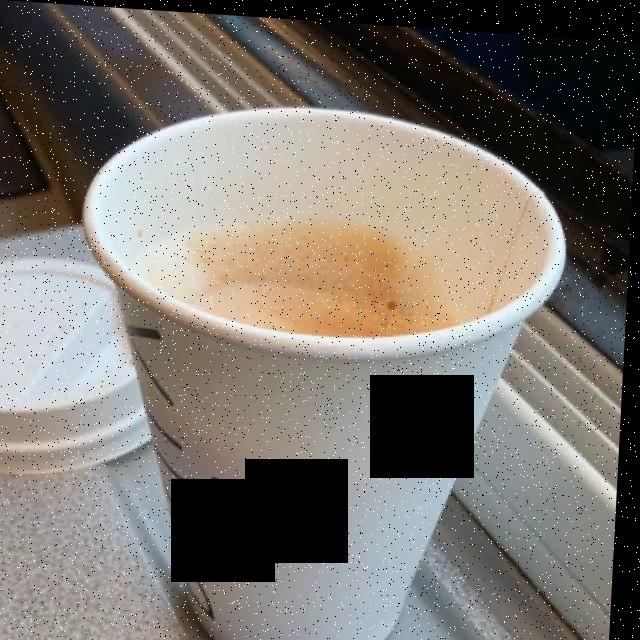white-coffee-with-caffeine: (146, 211, 510, 329)
